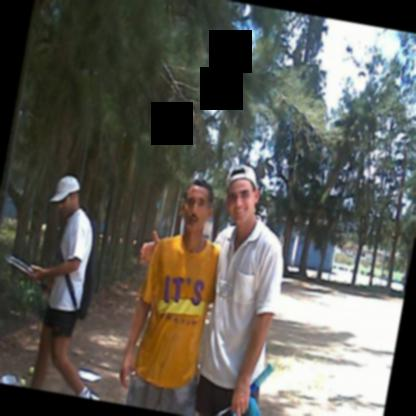backpack: (78, 282, 92, 320)
